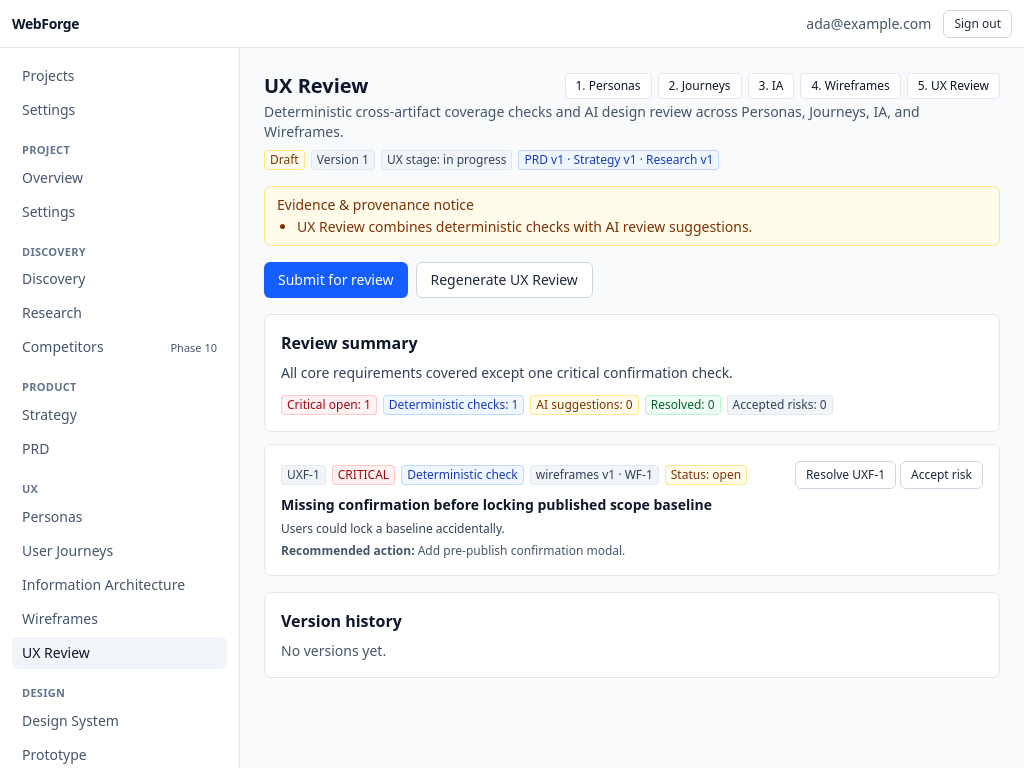
Test: Phase 11 UX Workspaces (Personas, Journeys, IA, Wireframes, UX Review) › requires resolving or accepting critical UX review findings with a rationale before completing the UX stage
Check: the heading "Missing confirmation before locking published scope baseline" is shown, box top-left (281, 495), bottom-right (712, 514)
Check: the text "Critical open: 1" is shown, box top-left (281, 395), bottom-right (377, 415)
Click the button "Accept risk": (942, 475) top-left (900, 461), bottom-right (983, 489)
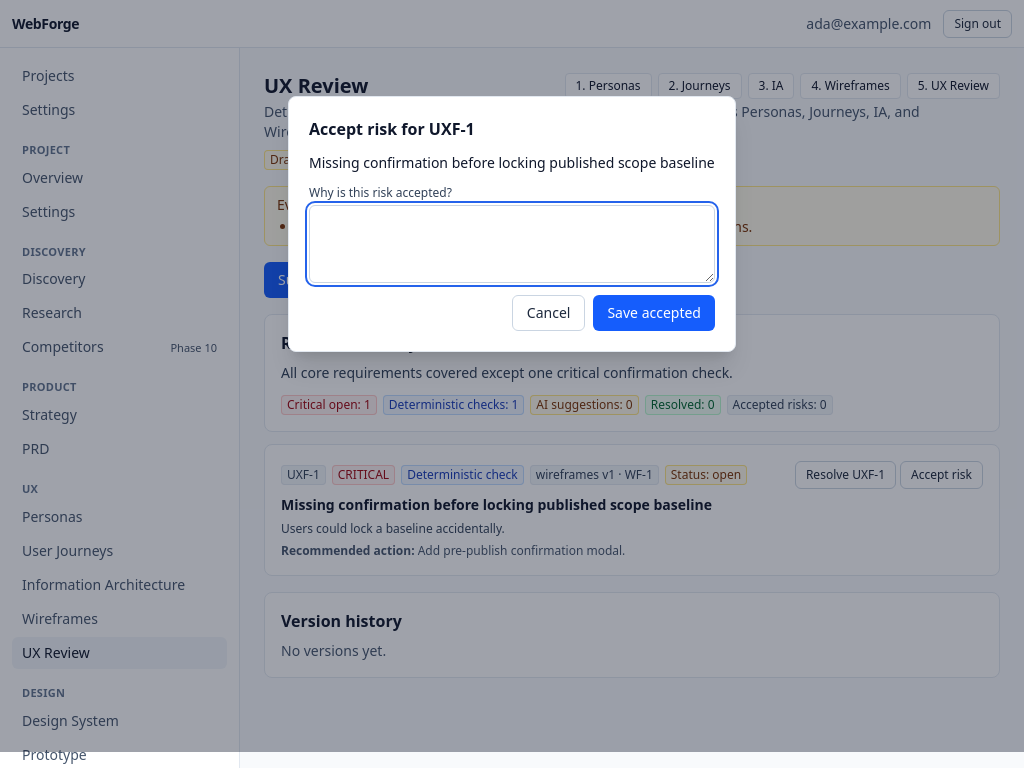
In the text box labelled "Why is this risk accepted?": (512, 244) top-left (309, 205), bottom-right (715, 283), type "Accepted risk for MVP"
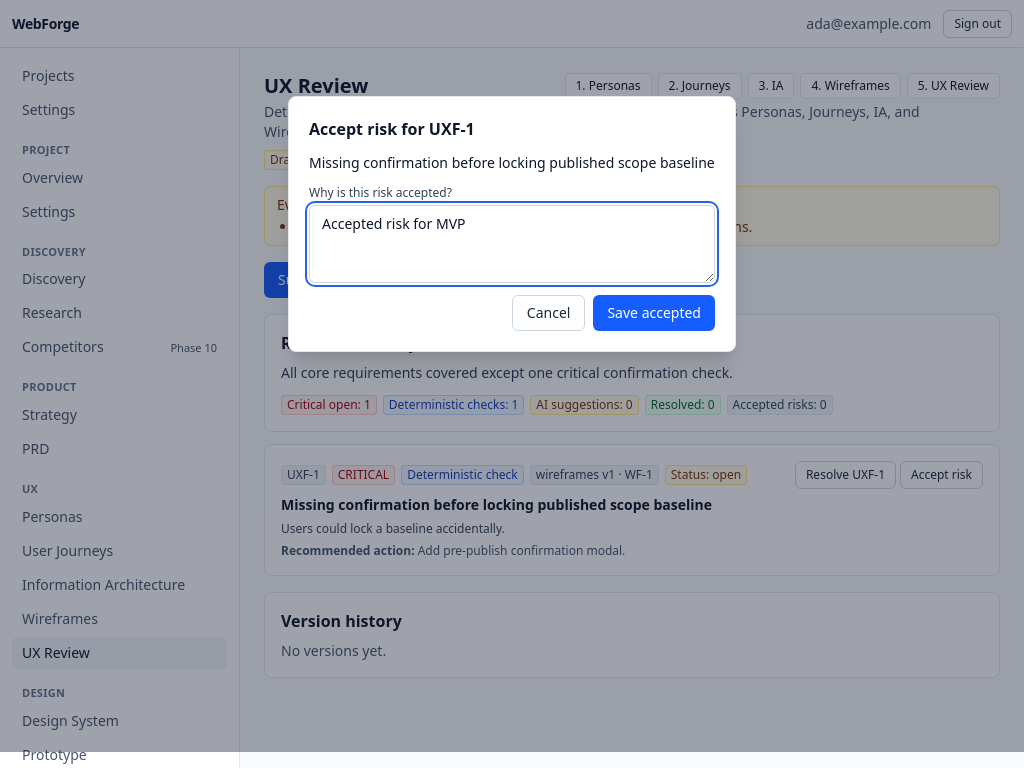
Click the button "Save accepted": (654, 313) top-left (593, 295), bottom-right (715, 331)
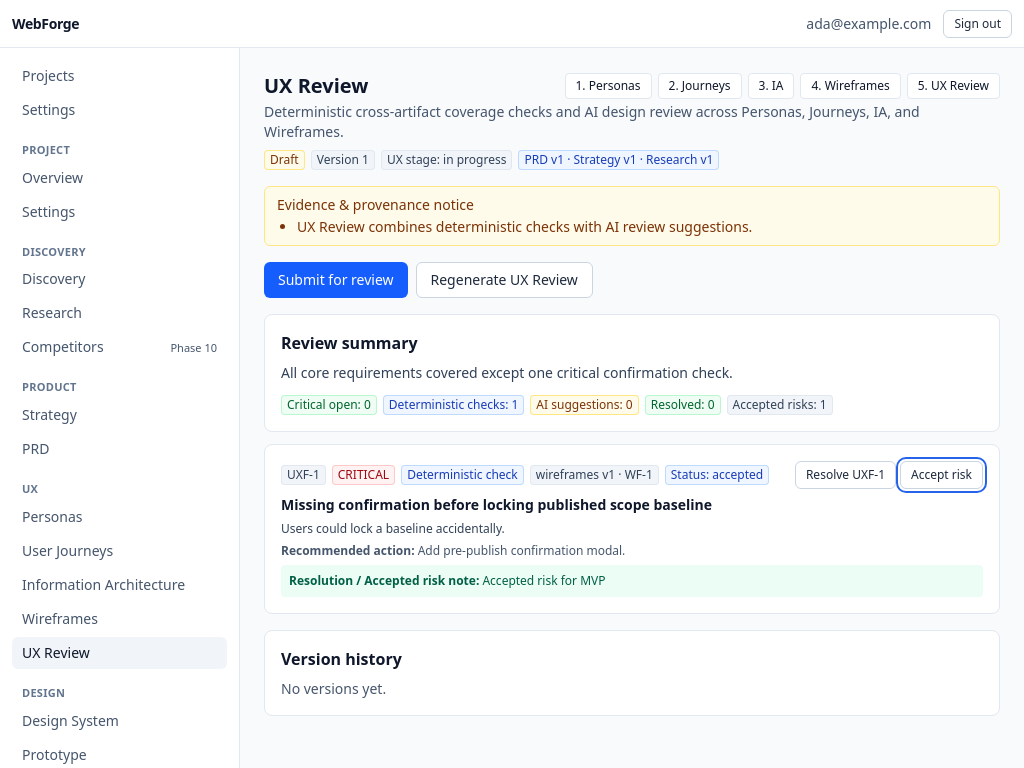
Click the button "Submit for review": (336, 280) top-left (264, 262), bottom-right (408, 298)
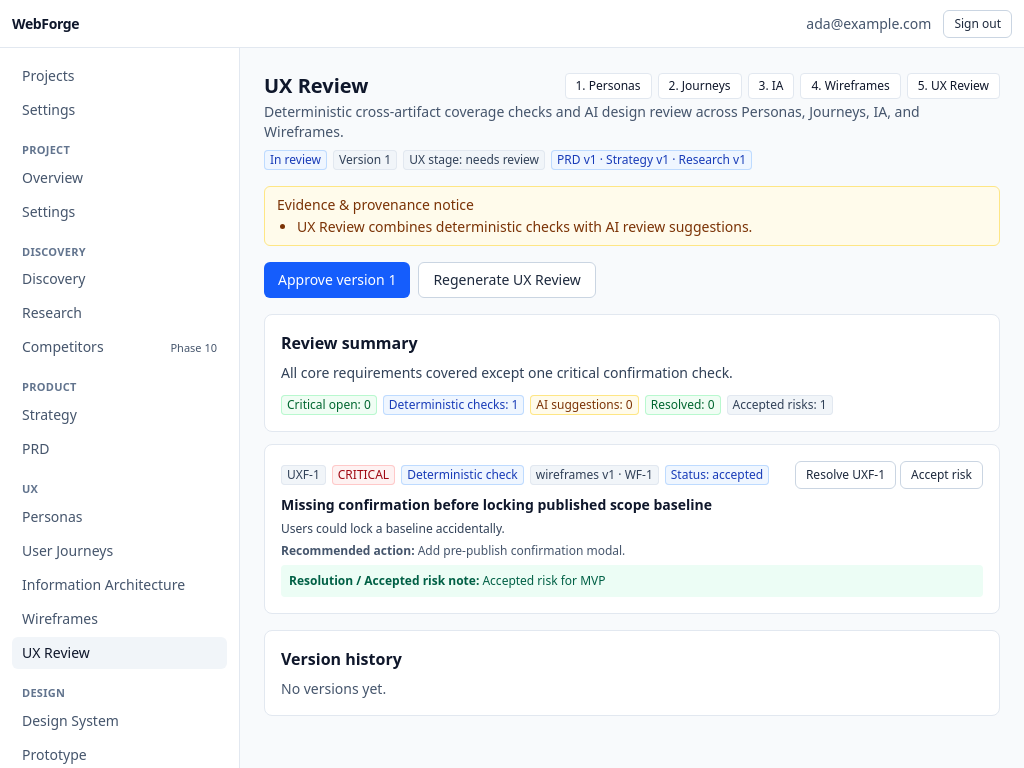
Click the button "Approve version 1": (337, 280) top-left (264, 262), bottom-right (410, 298)
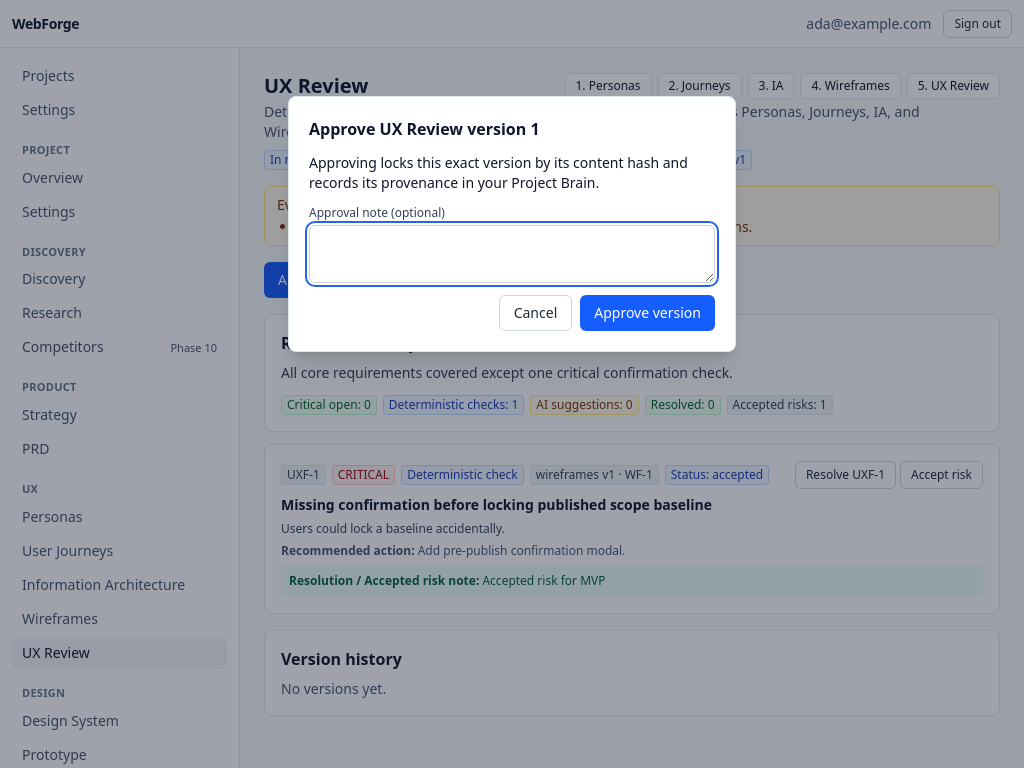
Click the button "Approve version": (648, 313) top-left (580, 295), bottom-right (715, 331)
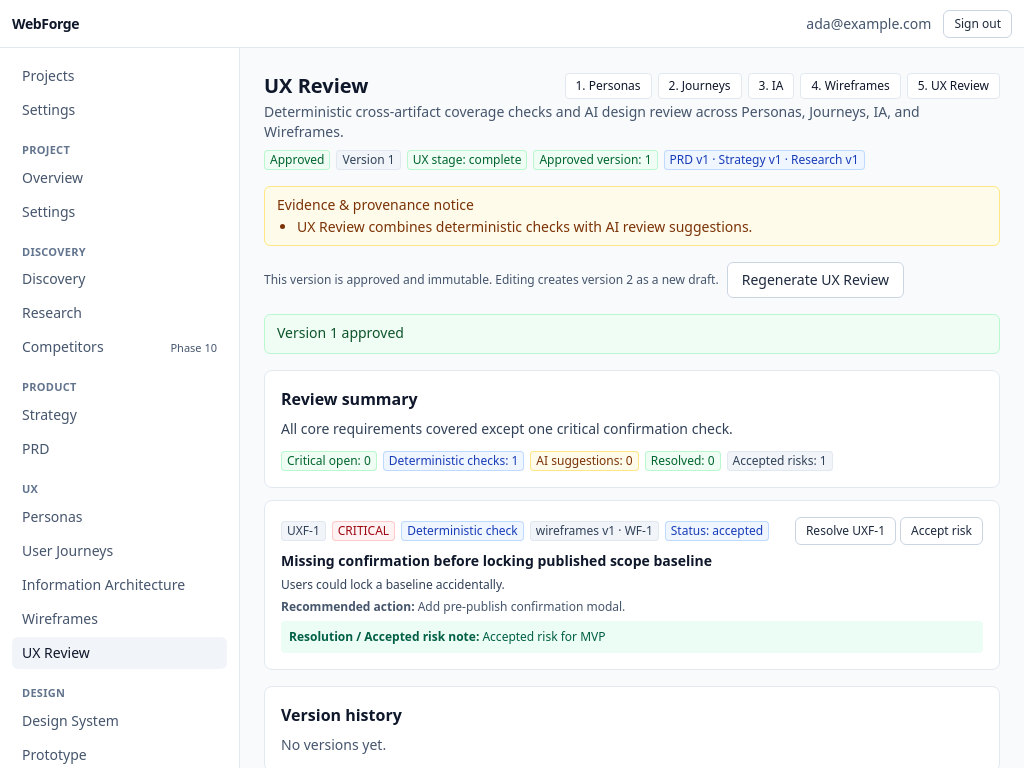
Check: the text "UX stage: complete" is shown, box top-left (407, 150), bottom-right (527, 170)
